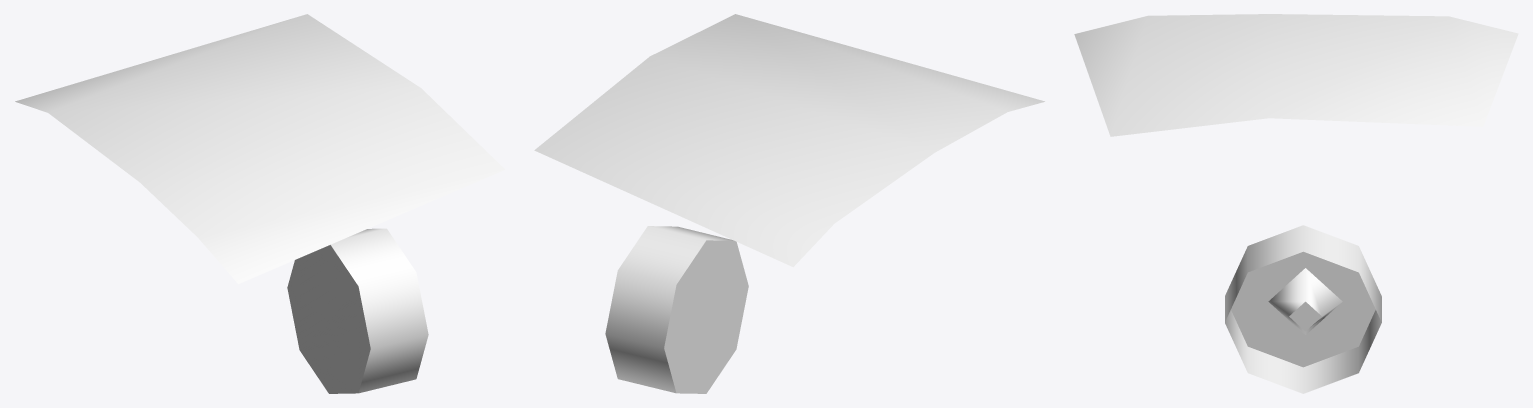
3 renders of one model, left to right at view 1: azimuth 30°, elevation 25°; view 2: azimuth 150°, elevation 25°; view 3: azimuth 270°, elevation 25°, orthographic. The views are drawn at different scales.
Size of the model in its own units: 0.2987 by 0.2982 by 0.4242.
Materials: 1 (1 with a texture image).
